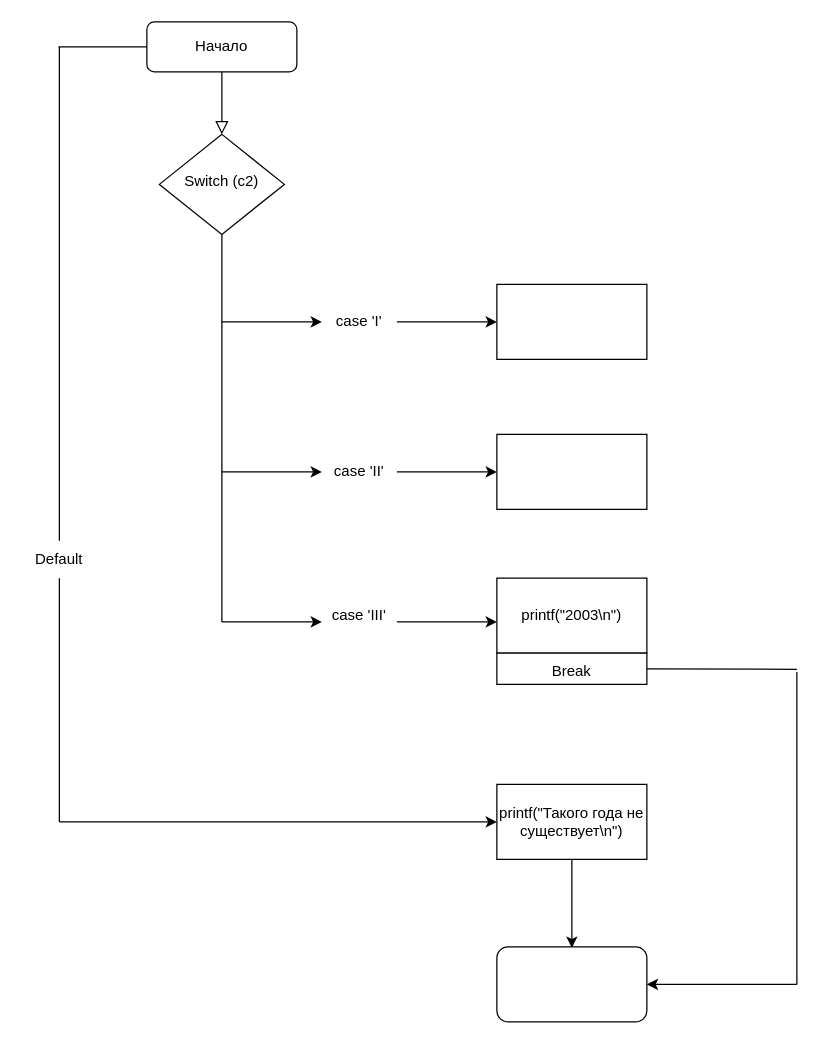
This 829x1044 diagram has some shape labels left out. Each missing label, with the centre of its shape:
printf("2001\n"): point 571,321
printf("2002\n"): point 571,471
Конец: point 571,984
